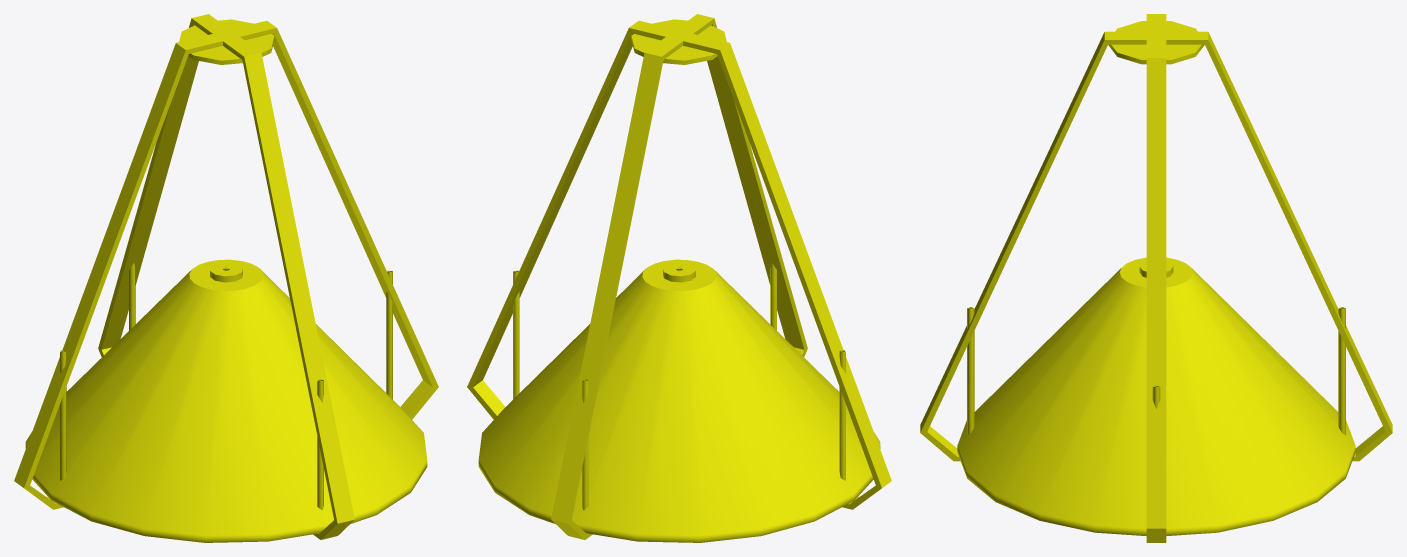
Rendered from CeilingLightA.fbx.
The picture shows the model from 3 angles, left to right: view 1: azimuth 30°, elevation 25°; view 2: azimuth 150°, elevation 25°; view 3: azimuth 270°, elevation 25°; orthographic projection.
Parts seen in each view (by area): view 1: CeilingLightA; view 2: CeilingLightA; view 3: CeilingLightA.
Boxes of the visible parts, x1,y1,x2,y2 form: CeilingLightA: [14, 14, 438, 542]; CeilingLightA: [467, 14, 891, 542]; CeilingLightA: [920, 14, 1392, 542].
Bounding box in the file's own units: 69.29 × 68.72 × 69.29.
